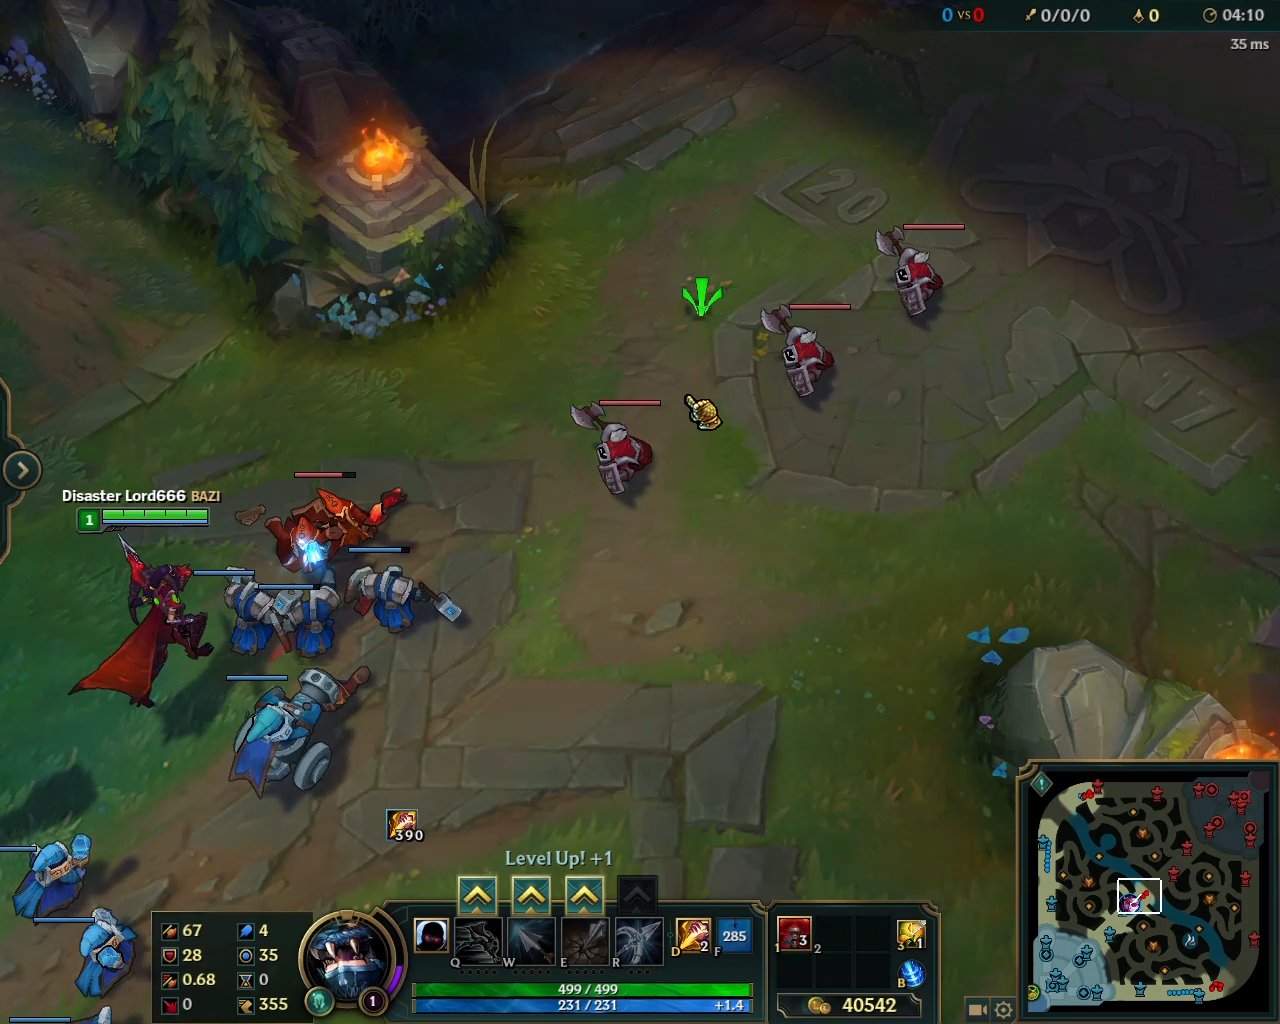EnemyMinion: (751, 303, 851, 405), (566, 400, 659, 499), (874, 224, 965, 320), (289, 470, 387, 558)
Vayne: (62, 535, 223, 717)
